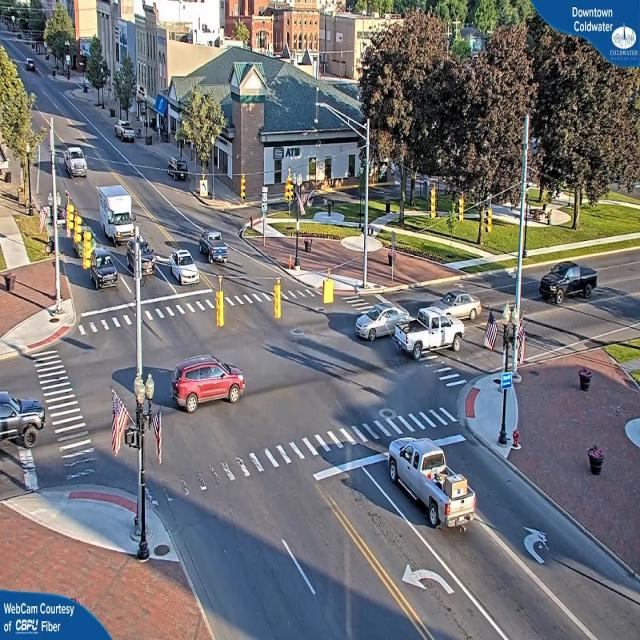car: (386, 439, 475, 537), (169, 356, 246, 411), (393, 305, 459, 358), (540, 262, 600, 300), (0, 397, 47, 443), (354, 302, 401, 342), (124, 236, 158, 280), (438, 290, 480, 322), (166, 250, 199, 287), (88, 252, 118, 290), (198, 230, 228, 264), (63, 150, 87, 180), (165, 157, 189, 180), (116, 122, 136, 142), (26, 59, 36, 72)
truck: (101, 185, 138, 244)
